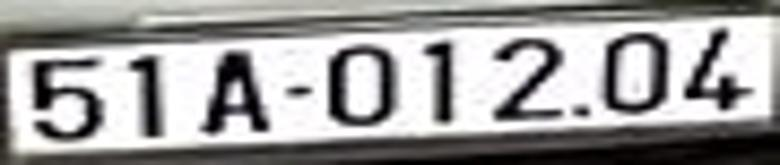-: (285, 83, 313, 99)
.: (569, 100, 593, 119)
0: (325, 49, 396, 125), (603, 34, 667, 114)
1: (128, 53, 163, 139), (424, 41, 454, 122)
2: (490, 37, 565, 122)
4: (683, 27, 750, 115)
5: (31, 59, 101, 139)
A: (201, 50, 267, 134)
